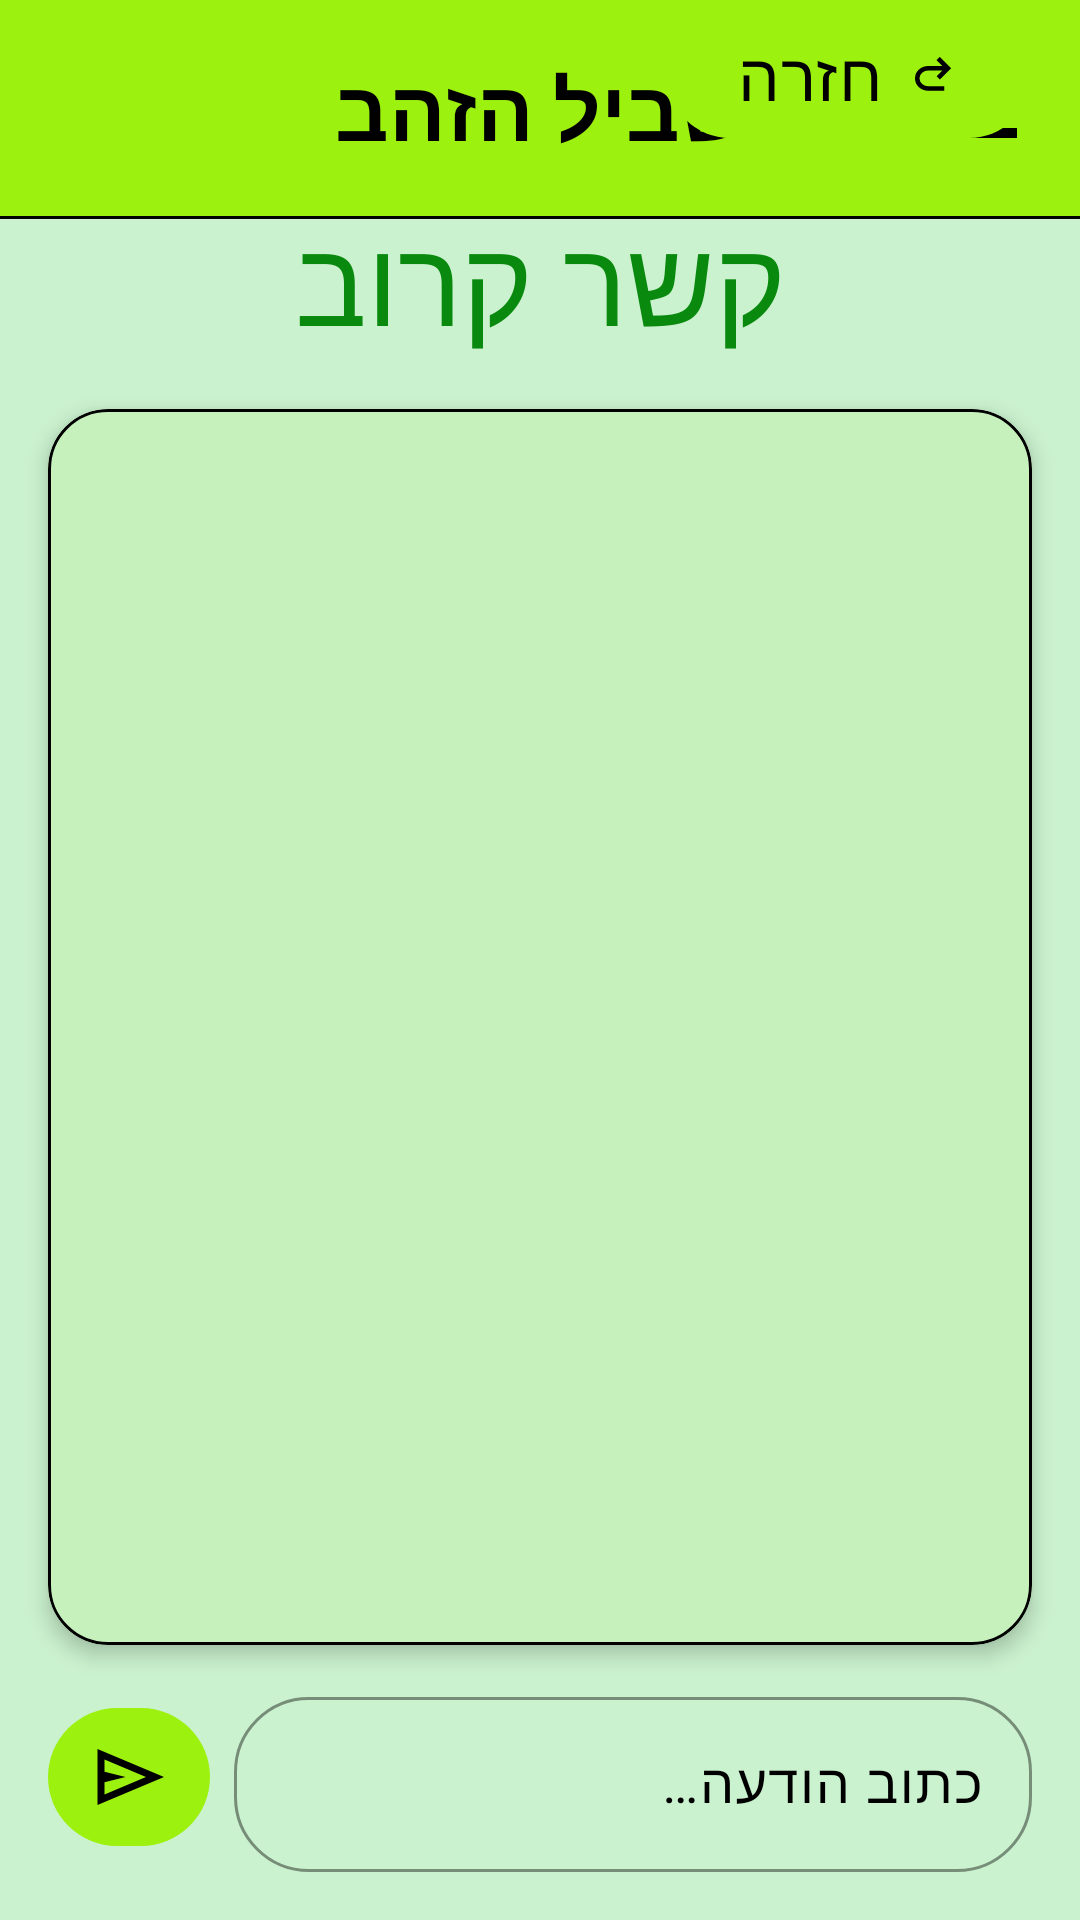

Icon bounding boxes for this 1080*1920 phone screenshot, format [x1,y1,x2,y2]:
שלח הודעה: [48,1708,210,1846]
